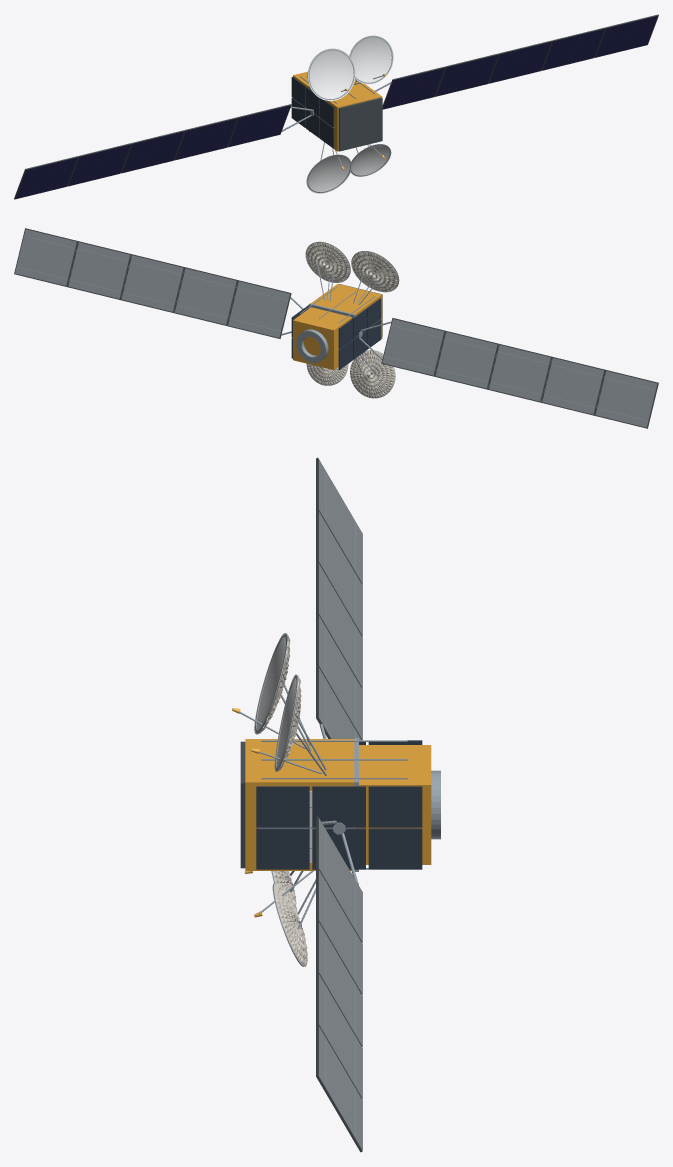
The model's file is astra-2e-2f-2g.glb.
3 renders of one model, top to bottom at view 1: azimuth 30°, elevation 25°; view 2: azimuth 150°, elevation 25°; view 3: azimuth 270°, elevation 25°, orthographic. The views are drawn at different scales.
Visible parts, largest first — view 1: Solar cell panel (×10), Earth-facing deck, Reflector 3 face, Reflector 4 face, Radiator bay (×4), Reflector 1 face, Reflector 2 face, Payload module, Reflector 3 edge; view 2: Rear array substrate (×10), Solar panel frame (×10), Service module, Reflector 1 insulated back, Reflector 3 insulated back, Reflector 4 insulated back, Payload module, Radiator bay (×3), Launch adapter ring, Reflector 2 insulated back; view 3: Rear array substrate (×10), Radiator bay (×6), Payload module, Service module, Reflector 2 insulated back, Reflector 3 face.
Boxes of the visible parts, x1,y1,x2,y2 form: Solar cell panel (×10): (15, 16, 657, 198); Earth-facing deck: (338, 97, 382, 151); Reflector 3 face: (308, 48, 355, 100); Reflector 4 face: (349, 35, 393, 84); Radiator bay (×4): (291, 77, 334, 148); Reflector 1 face: (307, 155, 351, 193); Reflector 2 face: (350, 144, 391, 176); Payload module: (310, 80, 382, 151); Reflector 3 edge: (307, 48, 354, 100); Rear array substrate (×10): (15, 229, 657, 427); Solar panel frame (×10): (14, 228, 658, 428); Service module: (293, 307, 351, 369); Reflector 1 insulated back: (350, 350, 394, 398); Reflector 3 insulated back: (351, 251, 398, 292); Reflector 4 insulated back: (305, 242, 350, 282); Payload module: (311, 284, 382, 349); Radiator bay (×3): (338, 298, 381, 369); Launch adapter ring: (296, 329, 328, 362); Reflector 2 insulated back: (306, 363, 347, 385); Rear array substrate (×10): (319, 460, 361, 1148); Radiator bay (×6): (256, 786, 422, 869); Payload module: (245, 739, 354, 870); Service module: (359, 745, 431, 864); Reflector 2 insulated back: (274, 882, 307, 966); Reflector 3 face: (254, 633, 286, 733).
Size of the model in its own units: 39.77 by 8.73 by 5.68.
10 materials, 1 textured.
